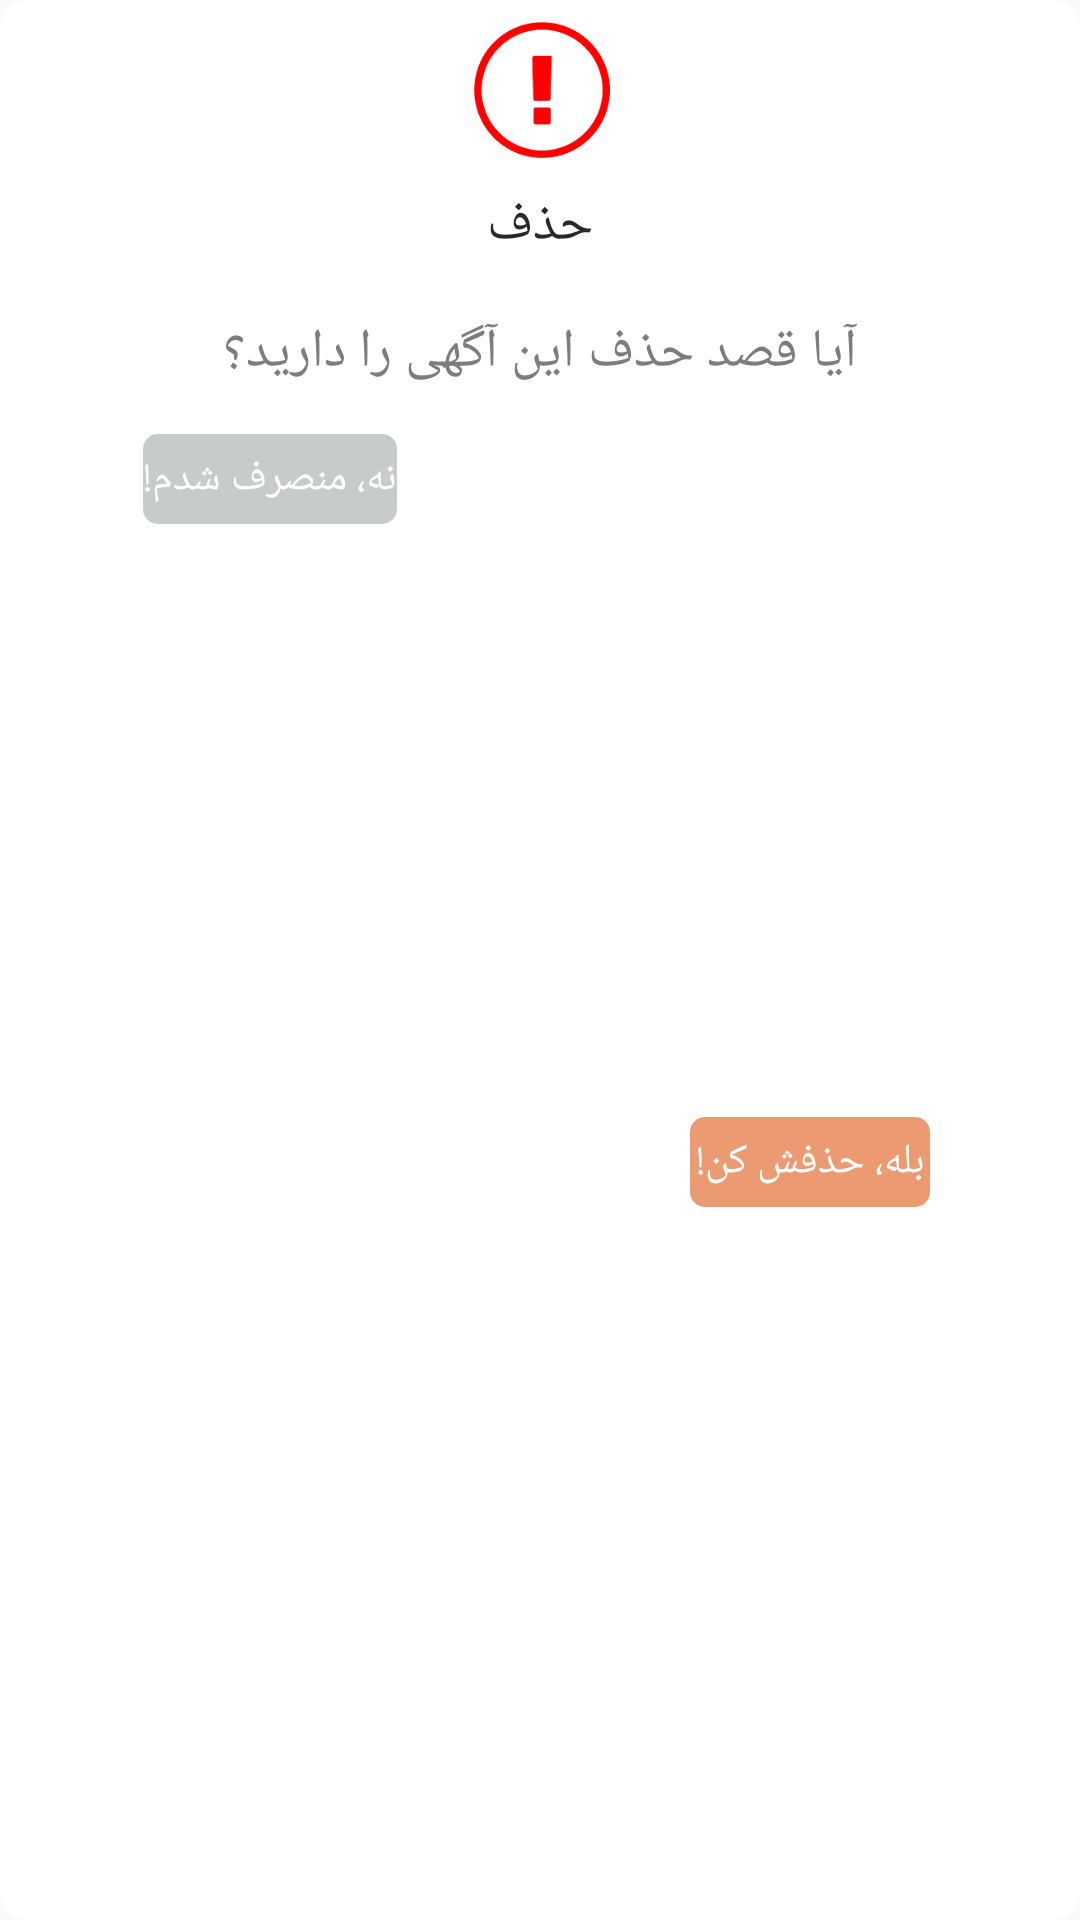

Icons on this 1080 × 1920 Android screen, each with its box as [left=x1, top=y1, right=x2, bottom=y2]:
alert: [left=474, top=22, right=610, bottom=158]
